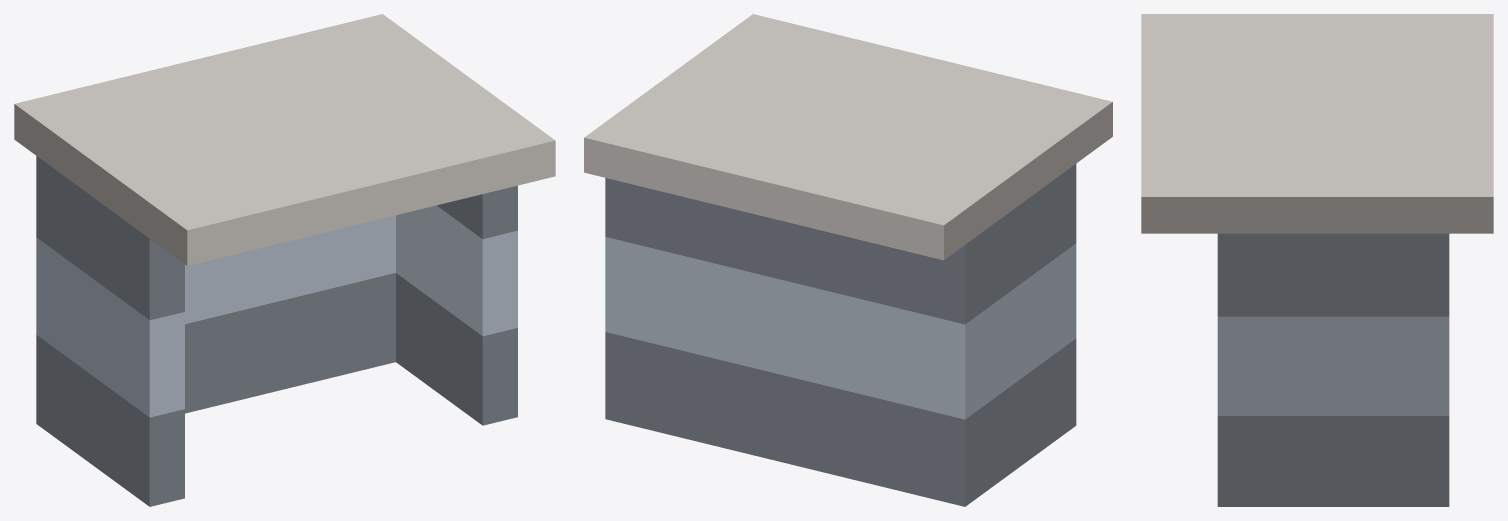
File: ButcherCounter3.glb
3 renders of one model, left to right at view 1: azimuth 30°, elevation 25°; view 2: azimuth 150°, elevation 25°; view 3: azimuth 270°, elevation 25°, orthographic. The views are drawn at different scales.
Visible parts, largest first — view 1: SI_Prop_ButcherCounter_03; view 2: SI_Prop_ButcherCounter_03; view 3: SI_Prop_ButcherCounter_03.
Part boxes in pixels (bbox=[...]): SI_Prop_ButcherCounter_03: bbox=[14, 14, 555, 506]; SI_Prop_ButcherCounter_03: bbox=[584, 14, 1112, 506]; SI_Prop_ButcherCounter_03: bbox=[1141, 14, 1493, 506].
Bounding box in the file's own units: 0.0187 × 0.0148 × 0.0152.
Materials: 1 (1 with a texture image).
